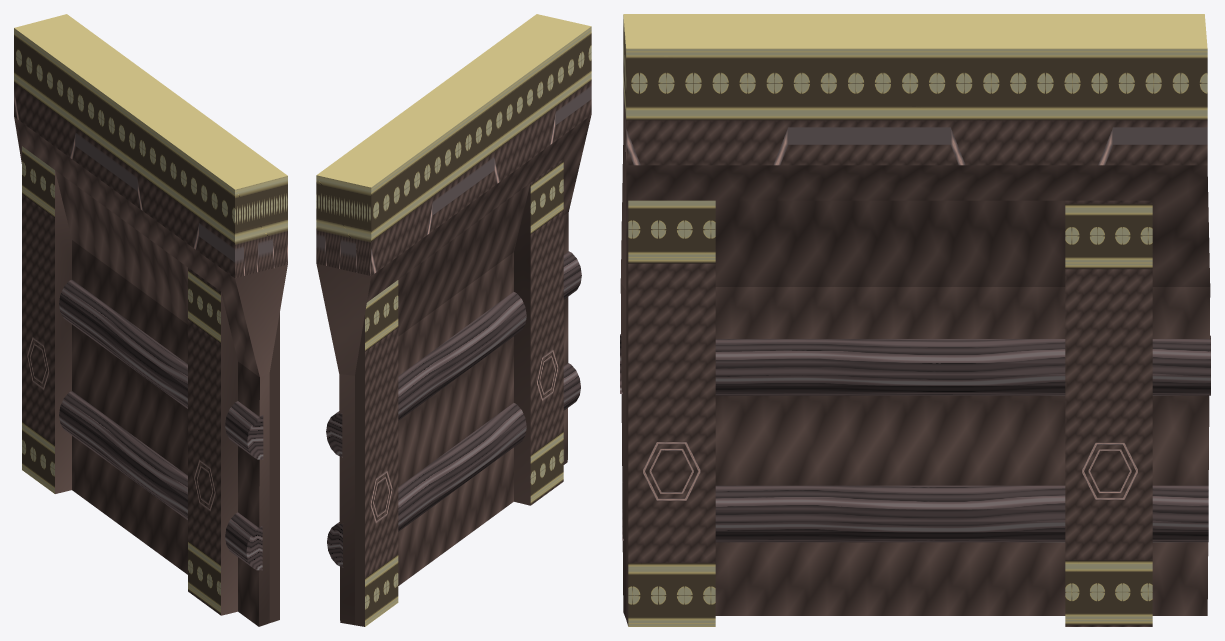
Rendered from Wall_Modular.glb.
3 renders of one model, left to right at view 1: azimuth 30°, elevation 25°; view 2: azimuth 150°, elevation 25°; view 3: azimuth 270°, elevation 25°, orthographic. The views are drawn at different scales.
Parts seen in each view (by area): view 1: Wall.006; view 2: Wall.006; view 3: Wall.006.
Boxes of the visible parts, x1,y1,x2,y2 form: Wall.006: [14, 14, 287, 626]; Wall.006: [316, 14, 591, 626]; Wall.006: [620, 14, 1210, 626].
Bounding box in the file's own units: 0.7 × 5.5 × 5.05.
Materials: 2 (2 with a texture image).
